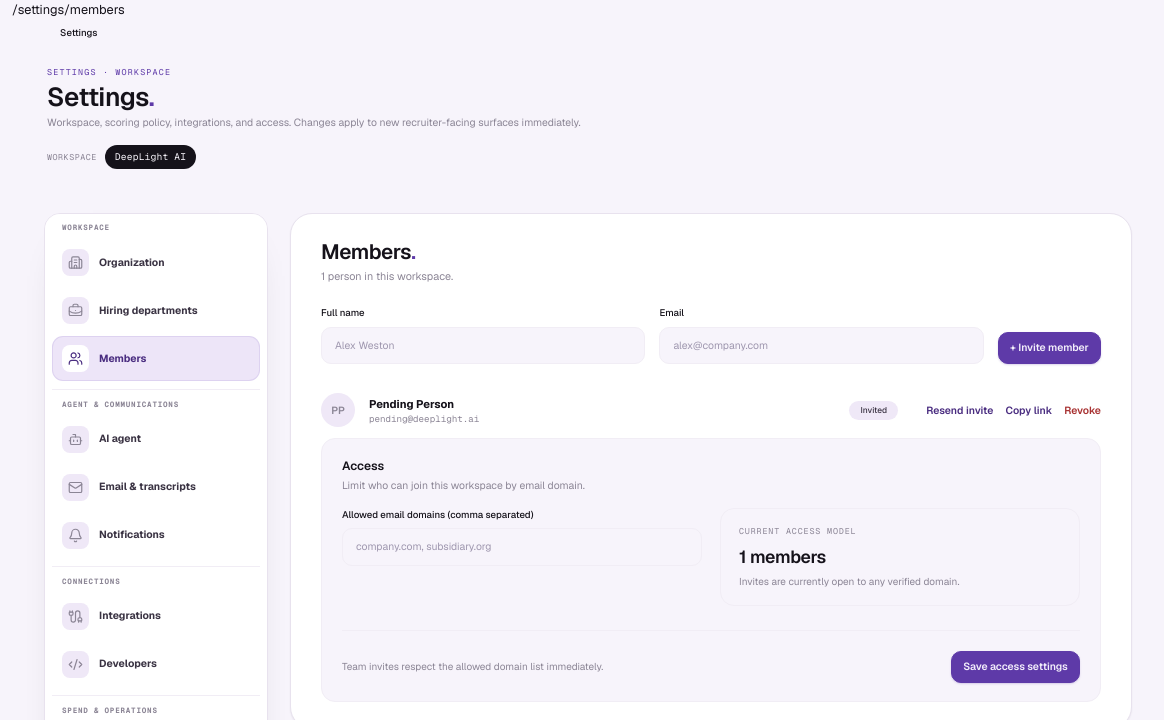
it: SettingsPage recruiter surface › revokes a pending invite only after inline confirm
This screenshot has width=1164, height=720.
Expected: the text "Pending Person" is shown, [369, 397, 454, 411]
# First click arms the confirm — no request yet.
Click the button "Revoke" at (1083, 410), box [1064, 396, 1101, 424]
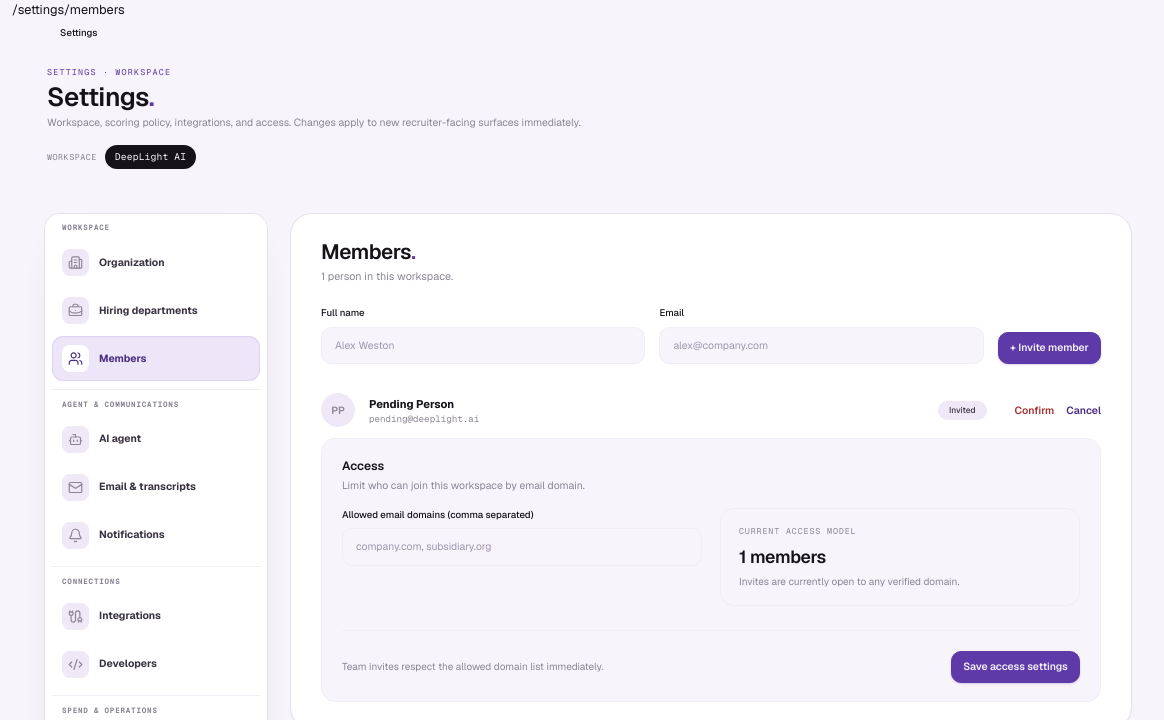
Click the button "Confirm" at (1034, 410), box [1015, 396, 1054, 424]
(page scrolled)
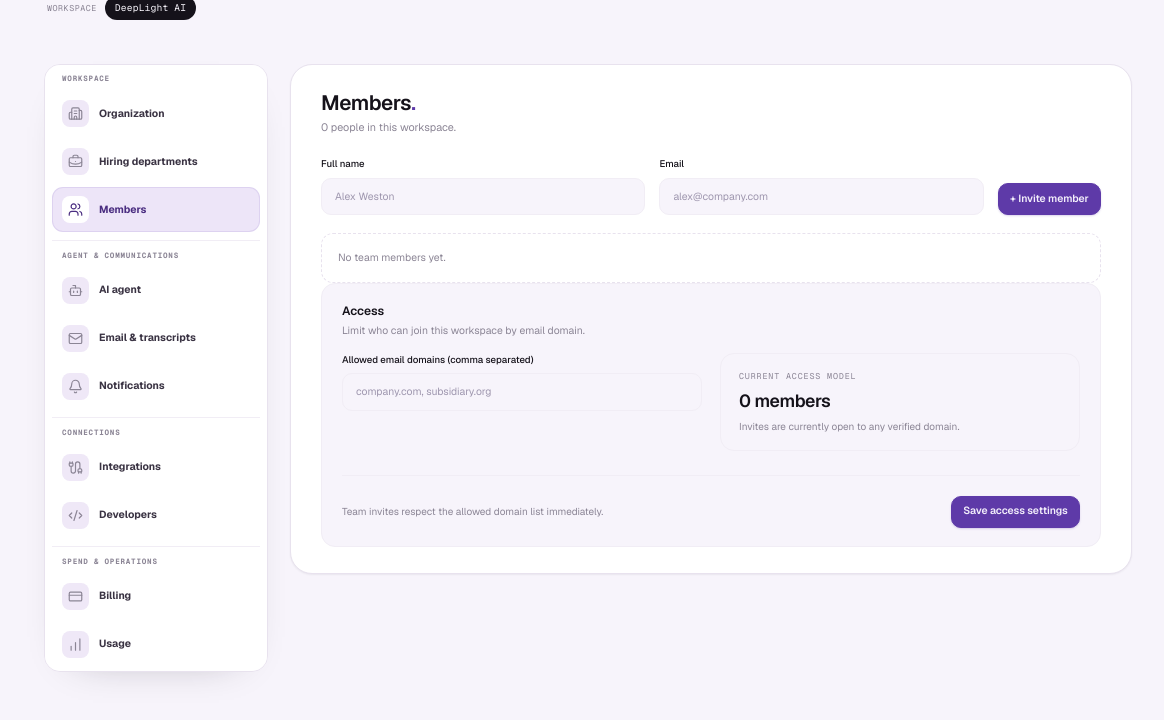
Result: the text "Pending Person" is gone
